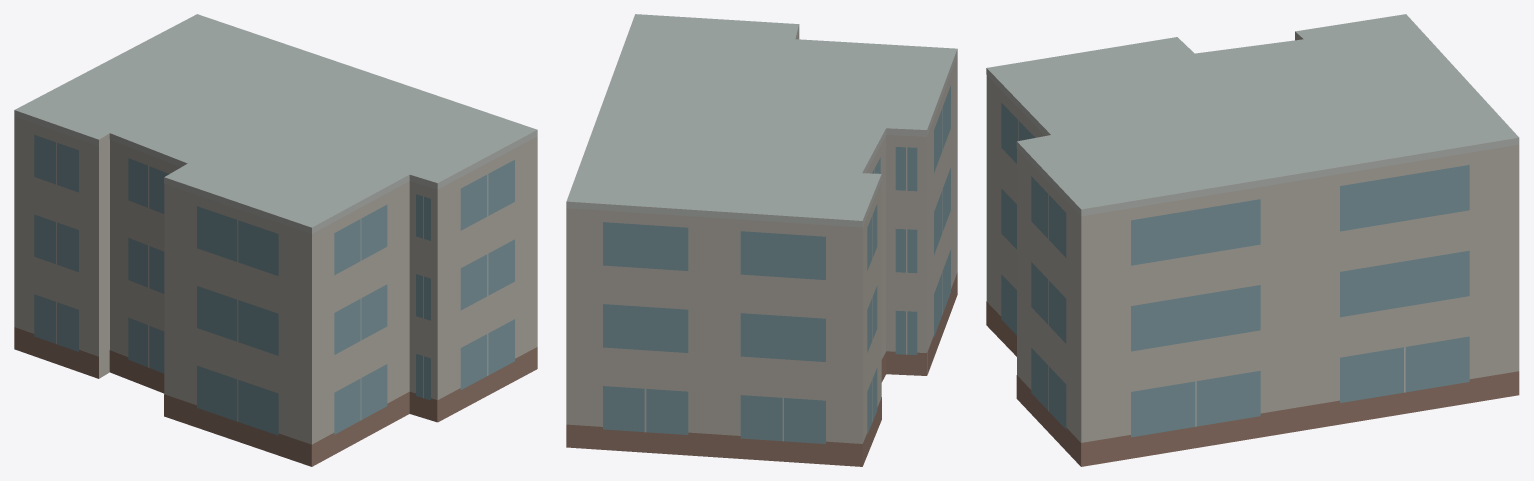
Rendered from survey-upis-32988828.glb.
3 views of the same model, side by side, from view 1: azimuth 30°, elevation 25°; view 2: azimuth 150°, elevation 25°; view 3: azimuth 270°, elevation 25° (orthographic). The views are drawn at different scales.
Parts seen in each view (by area): view 1: survey-upis-32988828.tmp; view 2: survey-upis-32988828.tmp; view 3: survey-upis-32988828.tmp.
Part boxes in pixels (x1,y1,x2,y2): survey-upis-32988828.tmp: (14,14,537,466); survey-upis-32988828.tmp: (566,14,957,466); survey-upis-32988828.tmp: (986,14,1519,466).
Size of the model in its own units: 14.91 by 9.15 by 17.18.
